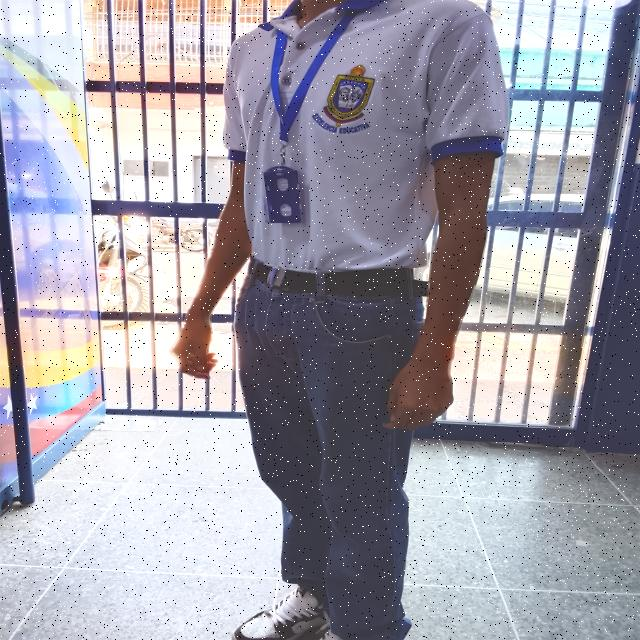carnet: (263, 170, 301, 223)
uniforme_superior: (222, 0, 510, 273)
